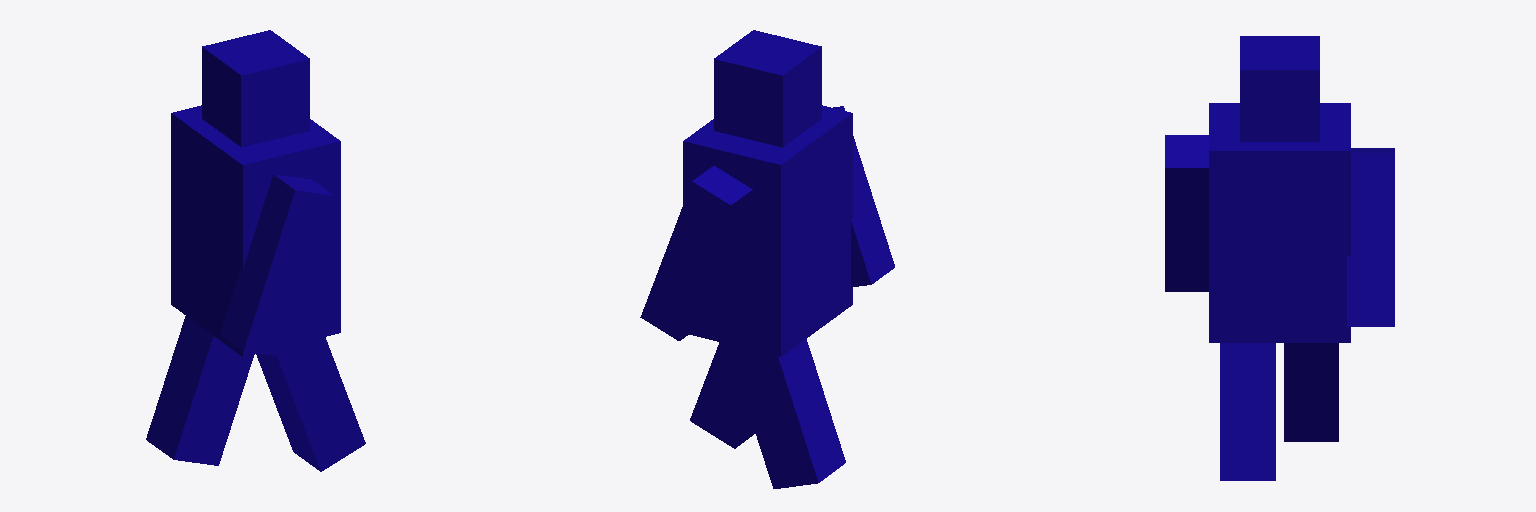
Rendered from enemy_blue_walk2.obj.
3 views of the same model, side by side, from view 1: azimuth 30°, elevation 25°; view 2: azimuth 150°, elevation 25°; view 3: azimuth 270°, elevation 25° (orthographic).
Visible parts, largest first — view 1: body_Cube, arm_left_Cube.002, head_Cube.005, leg.001_Cube.001, leg_Cube.004; view 2: body_Cube, leg.001_Cube.001, head_Cube.005, arm_right_Cube.003, leg_Cube.004, arm_left_Cube.002; view 3: body_Cube, head_Cube.005, arm_right_Cube.003, leg_Cube.004, arm_left_Cube.002, leg.001_Cube.001.
Part boxes in pixels (x1,y1,x2,y2): body_Cube: (171, 105, 340, 356); arm_left_Cube.002: (220, 174, 333, 356); head_Cube.005: (202, 30, 309, 147); leg.001_Cube.001: (146, 316, 254, 465); leg_Cube.004: (256, 337, 365, 471); body_Cube: (683, 105, 852, 356); leg.001_Cube.001: (727, 339, 845, 488); head_Cube.005: (714, 30, 821, 147); arm_right_Cube.003: (640, 166, 752, 340); leg_Cube.004: (690, 342, 755, 448); arm_left_Cube.002: (833, 106, 894, 287); body_Cube: (1209, 103, 1350, 342); head_Cube.005: (1240, 36, 1319, 141); arm_right_Cube.003: (1347, 148, 1394, 326); leg_Cube.004: (1220, 343, 1275, 480); arm_left_Cube.002: (1165, 135, 1208, 291); leg.001_Cube.001: (1284, 343, 1338, 441).
Bounding box in the file's own units: 2.34 × 5.65 × 2.9.